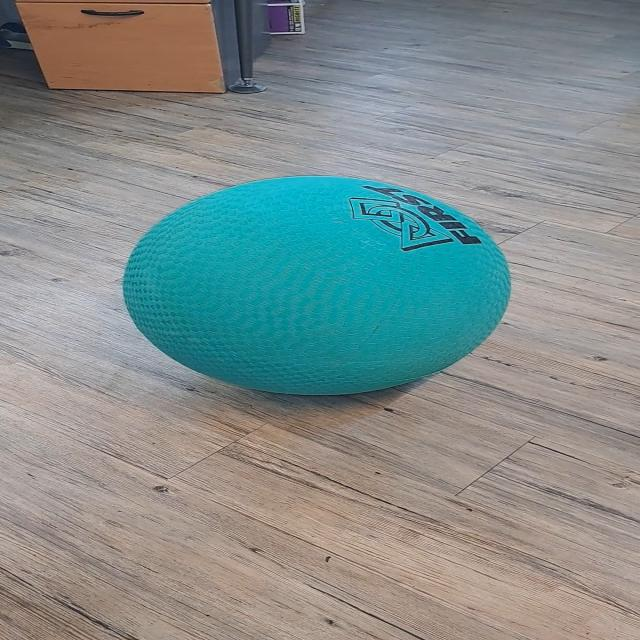ALGAE: (120, 173, 513, 397)
